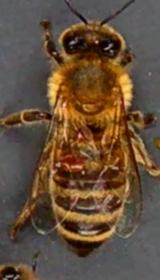varroa_mite: (54, 151, 94, 177)
